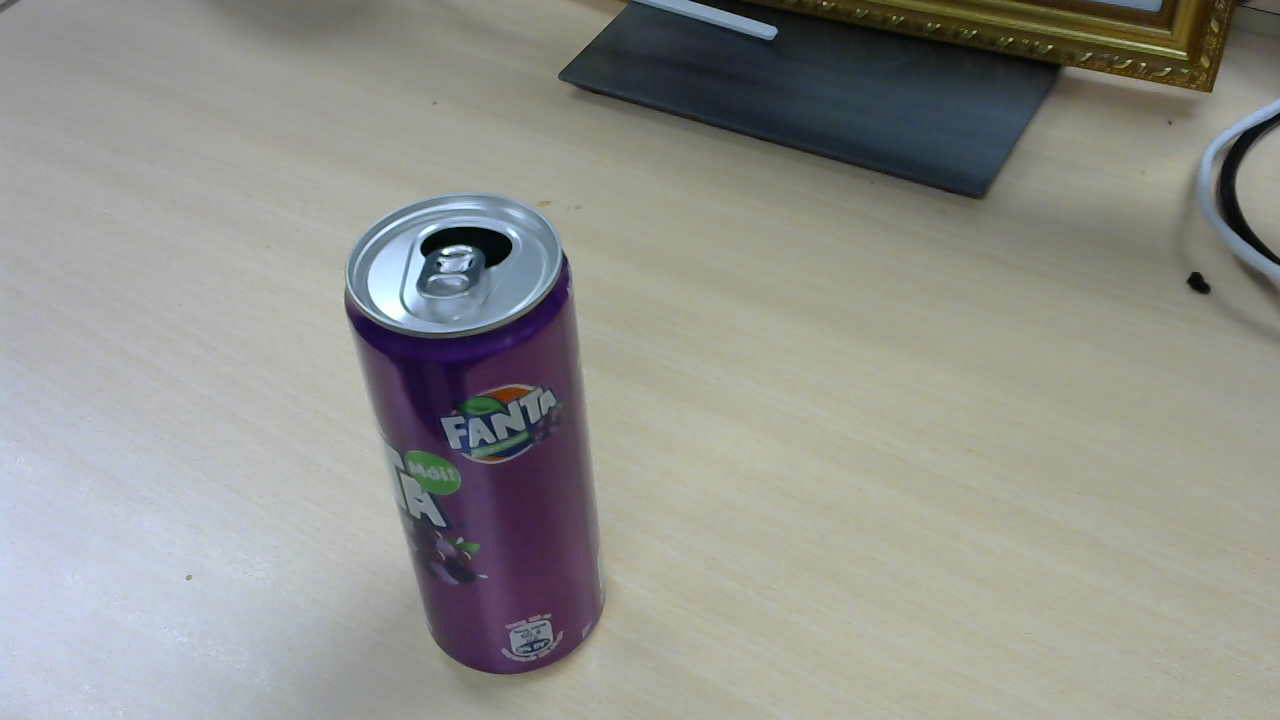Fanta: (346, 199, 609, 680)
